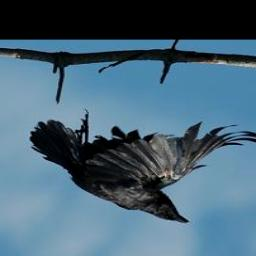Crow: (33, 108, 256, 226)
